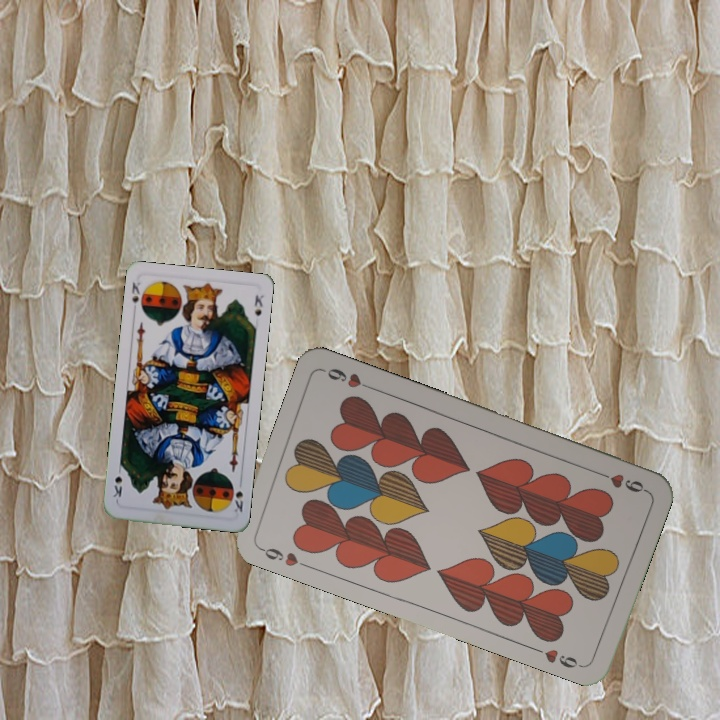H9: (592, 467, 649, 495), (255, 543, 312, 571)
SK: (128, 278, 147, 314), (229, 487, 246, 515)
